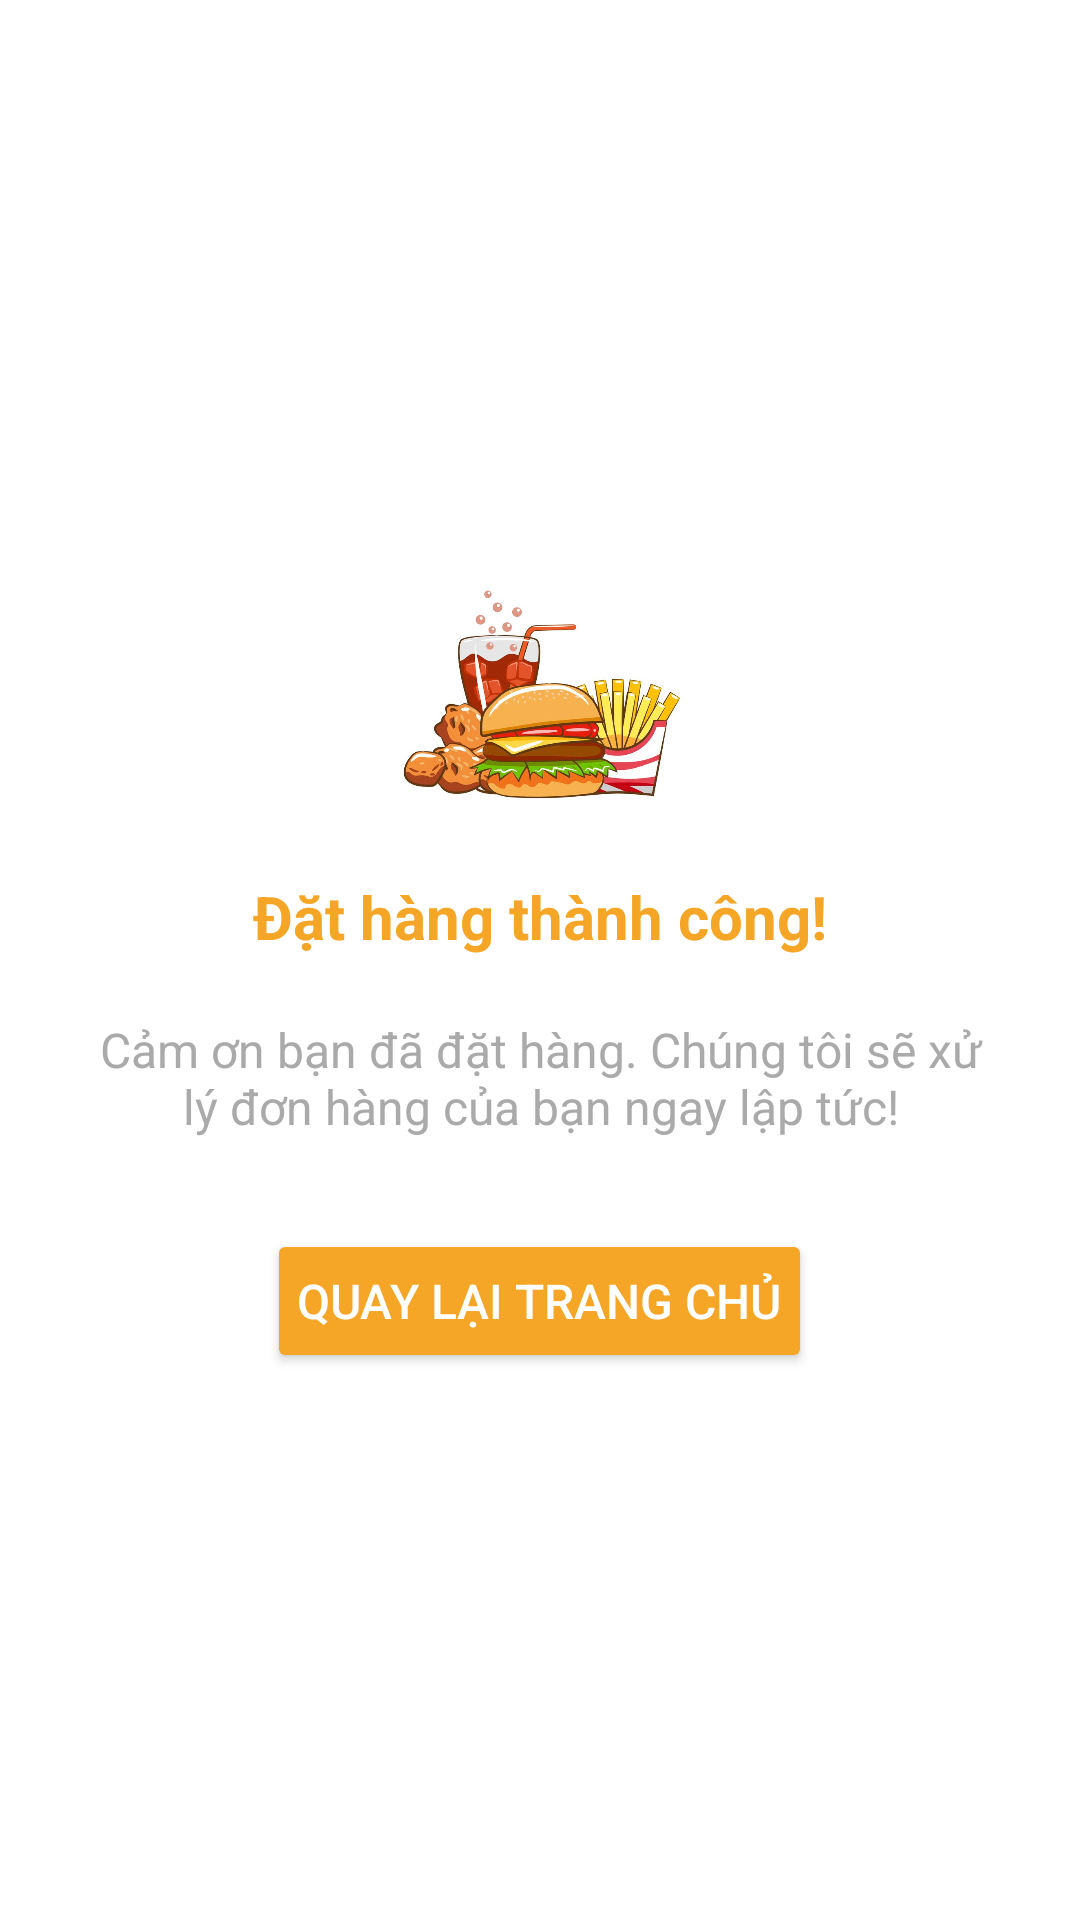

Icons on this 1080 x 1920 Android screen, each with its box as box(x1, y1, x2, y2):
fastfood: box(403, 590, 680, 798)
